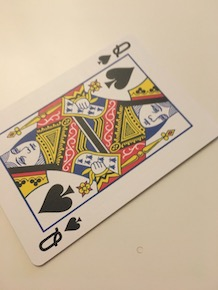QueenOfSpades: (1, 28, 217, 269)
